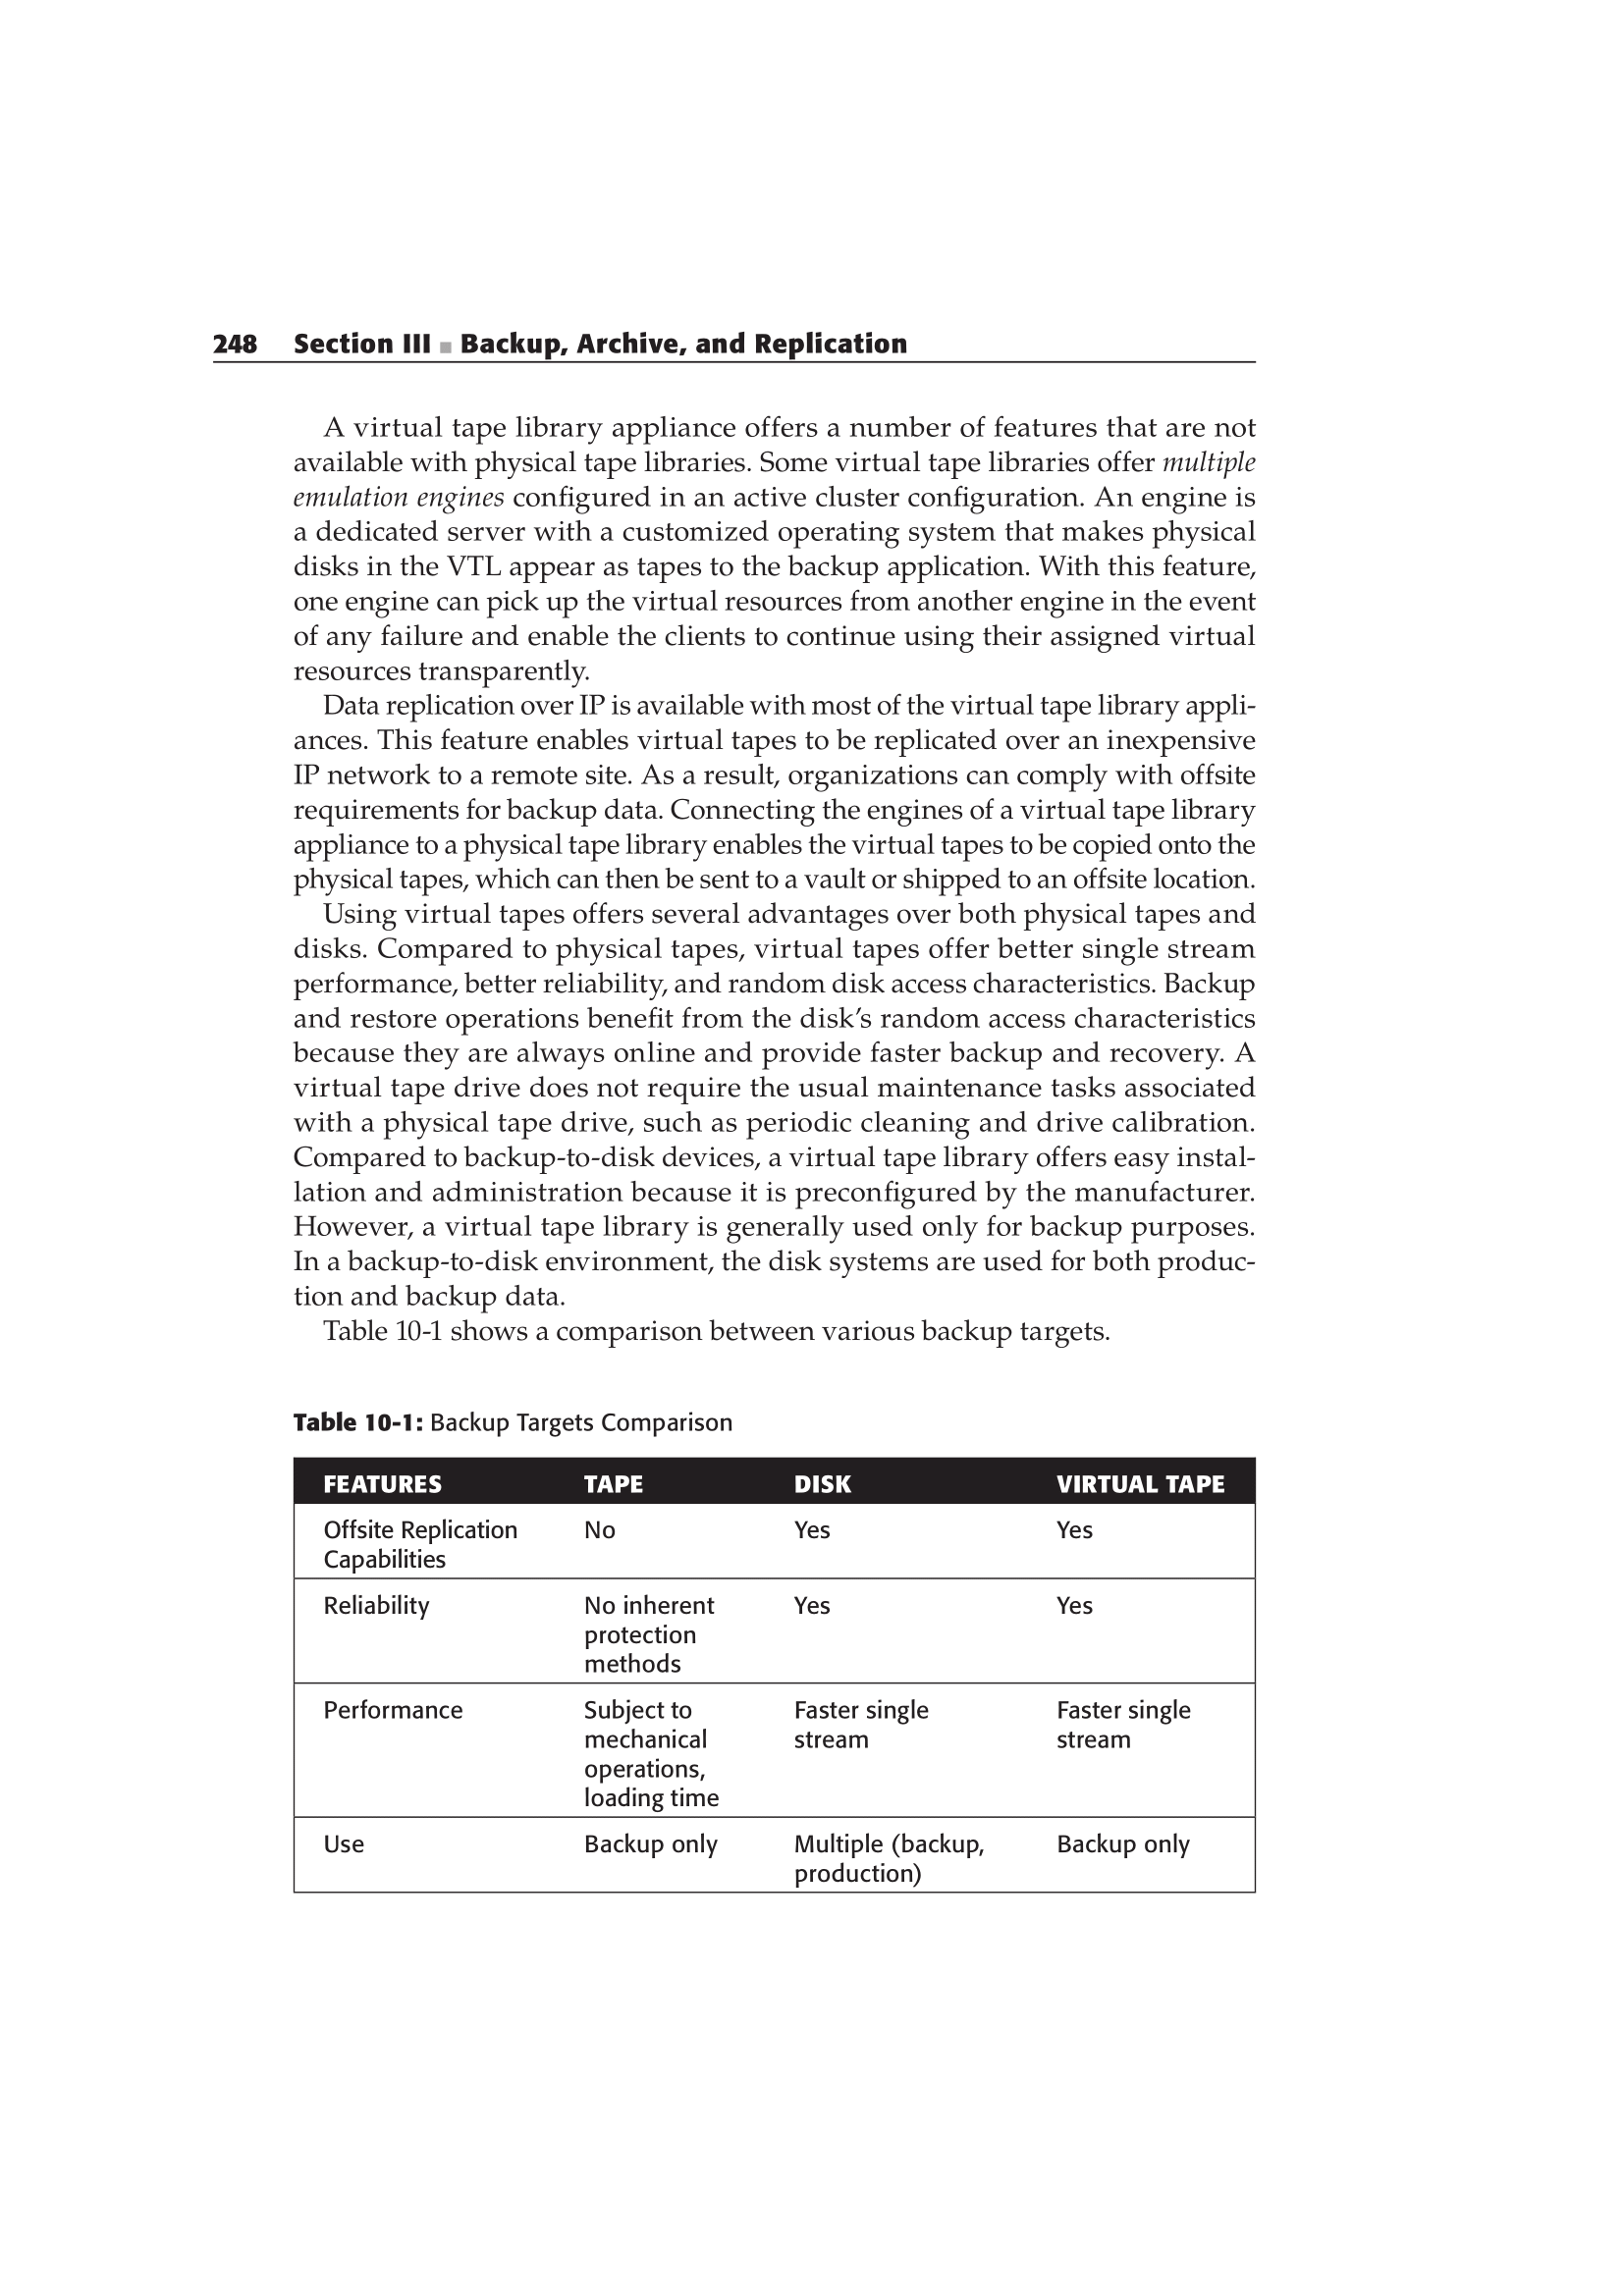Paragraph: (283, 904, 1256, 1306), (292, 388, 1270, 679), (288, 679, 1265, 899), (197, 305, 913, 356), (320, 1309, 1114, 1352), (283, 1401, 745, 1443), (576, 1694, 739, 1812), (790, 1808, 999, 1894), (1042, 1675, 1205, 1771), (580, 1594, 739, 1680), (320, 1515, 530, 1580), (790, 1685, 940, 1776), (1036, 1808, 1201, 1880), (297, 1680, 488, 1726), (311, 1583, 448, 1620), (576, 1826, 725, 1857), (311, 1817, 383, 1862), (571, 1506, 622, 1548), (790, 1511, 836, 1548), (1054, 1589, 1096, 1620), (1054, 1515, 1096, 1543), (790, 1597, 836, 1620)
